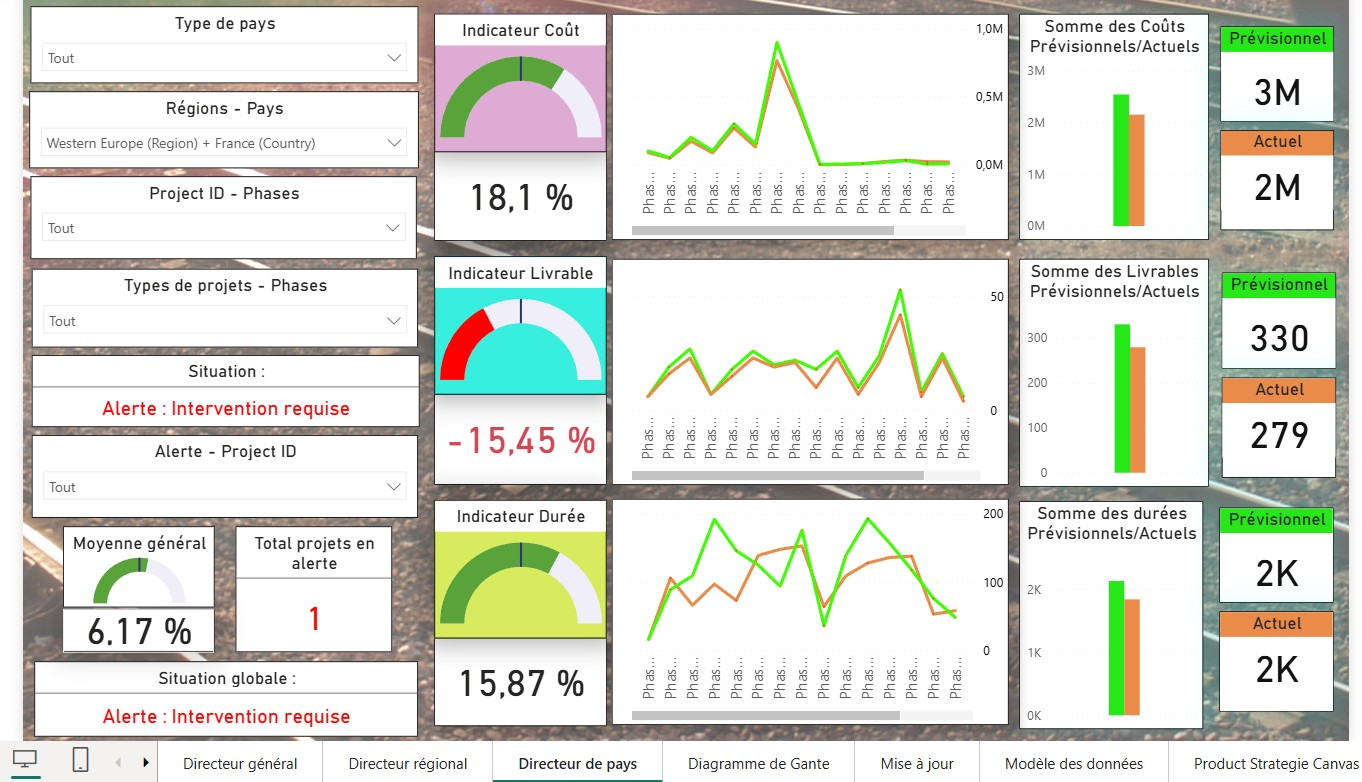

The page's visual inventory and layout, read from the dashboard file:
{"tool":"powerbi","page":{"name":"Directeur de pays","canvas":[1280,720],"ordinal":2},"visuals":[{"type":"clusteredColumnChart","title":"Somme des Coûts Prévisionnels/Actuels","fields":{"Y":["Sum(Data Par Projet.Planned Cost Par Projet)","Sum(Data Par Projet.Actual Cost Par Projet)"]},"box":[961,18.6,183.1,218.6],"z":0},{"type":"card","title":"Indicateur Livrable","fields":{"Values":["Projects_plans.Indicateur Livrable"]},"box":[396.6,384.7,166.1,88.1],"z":1000},{"type":"clusteredColumnChart","title":"Somme des durées Prévisionnels/Actuels","fields":{"Y":["Projects_plans.SommeDuréePrévisionnels","Actual Duration.SommeDuréeActuel"]},"box":[961,488.1,178,220.3],"z":2000},{"type":"clusteredColumnChart","title":"Somme des Livrables Prévisionnels/Actuels","fields":{"Y":["Projects_plans.SommeLivrablesPrévisionnels","Actual Delivrables.SommeLivrablesActuels"]},"box":[961,254.2,183.1,220.3],"z":3000},{"type":"gauge","title":"Indicateur Livrable","fields":{"Y":["Projects_plans.Indicateur Livrable Valeur"]},"box":[396.6,252.5,166.1,133.9],"z":4000},{"type":"card","title":"Indicateur Livrable","fields":{"Values":["Projects_plans.Indicateur Coûts"]},"box":[396.6,150.8,166.1,86.4],"z":5000},{"type":"gauge","title":"Indicateur Coût","fields":{"Y":["Projects_plans.Indicateur Coûts Valeur"]},"box":[396.6,18.6,166.1,133.9],"z":6000},{"type":"card","title":"Indicateur Livrable","fields":{"Values":["Projects_plans.Indicateur Durée"]},"box":[397.3,620.5,166.2,85.5],"z":7000},{"type":"gauge","title":"Indicateur Durée","fields":{"Y":["Projects_plans.Indicateur Durée Valeur"]},"box":[396.5,487.2,166.3,133.7],"z":8000},{"type":"cardVisual","title":"Prévisionnel","fields":{"Data":["Projects_plans.SommeCoûtsPrévisionnels"]},"box":[1155.8,30.3,109.2,91.8],"z":9000},{"type":"cardVisual","title":"Actuel","fields":{"Data":["Actual_Costs.SommeCoûtsActuels"]},"box":[1155.8,130,109.2,96.6],"z":10000},{"type":"cardVisual","title":"Prévisionnel","fields":{"Data":["Projects_plans.SommeLivrablesPrévisionnels"]},"box":[1157.4,268,110,92.5],"z":11000},{"type":"cardVisual","title":"Actuel","fields":{"Data":["Actual Delivrables.SommeLivrablesActuels"]},"box":[1157.5,368.8,110.4,96.6],"z":12000},{"type":"cardVisual","title":"Prévisionnel","fields":{"Data":["Projects_plans.SommeDuréePrévisionnels"]},"box":[1154.6,494.9,110.4,92],"z":13000},{"type":"cardVisual","title":"Actuel","fields":{"Data":["Actual Duration.SommeDuréeActuel"]},"box":[1154.6,594.6,110.4,96.6],"z":14000},{"type":"slicer","title":"Régions - Pays","fields":{"Values":["Country_Location.Region","Country_Location.Country"]},"box":[6.1,92.4,375.8,74.2],"z":15000},{"type":"card","title":"Situation globale :","fields":{"Values":["Data Par Projet.IndicateurAlerteStatique"]},"box":[11.3,642.9,370.2,72.5],"z":16000},{"type":"slicer","title":"Types de projets - Phases","fields":{"Values":["Project type.Project Type","Projects_plans.Phase"]},"box":[8.9,263.8,372.9,76.1],"z":17000},{"type":"lineChart","fields":{"Y":["Projects_plans.SommeLivrablesPrévisionnels","Actual Delivrables.SommeLivrablesActuels"],"Category":["Projects_plans.Phase","Projects_plans.Start Date.Variation.Hiérarchie de dates.Année","Projects_plans.Start Date.Variation.Hiérarchie de dates.Trimestre","Projects_plans.Start Date.Variation.Hiérarchie de dates.Mois","Projects_plans.Start Date.Variation.Hiérarchie de dates.Jour"]},"box":[567.8,254.2,383.1,218.6],"z":18000},{"type":"slicer","title":"Alerte - Project ID","fields":{"Values":["Data Par Projet.AlerteParProjet","Data Par Projet.ID"]},"box":[8.8,425.3,372.7,80],"z":19000},{"type":"slicer","title":"Type de pays","fields":{"Values":["Country_Location.Type"]},"box":[7.6,10.6,374.2,74.2],"z":20000},{"type":"card","title":"Total projets en alerte","fields":{"Values":["Data Par Projet.NombreProjetsAlerteSansFiltre"]},"box":[205.4,512.8,151.3,121.3],"z":21000},{"type":"card","title":"Situation :","fields":{"Values":["Projects_plans.IndicateurAlerteParPhases"]},"box":[8.9,347.5,374.2,69.8],"z":22000},{"type":"lineChart","fields":{"Category":["Projects_plans.Phase","Projects_plans.Start Date.Variation.Hiérarchie de dates.Année","Projects_plans.Start Date.Variation.Hiérarchie de dates.Trimestre","Projects_plans.Start Date.Variation.Hiérarchie de dates.Mois","Projects_plans.Start Date.Variation.Hiérarchie de dates.Jour"],"Y":["Actual Duration.SommeDuréeActuel","Projects_plans.SommeDuréePrévisionnels"]},"box":[567.8,486.4,383.1,218.6],"z":23000},{"type":"lineChart","fields":{"Category":["Projects_plans.Phase","Projects_plans.Start Date.Variation.Hiérarchie de dates.Année","Projects_plans.Start Date.Variation.Hiérarchie de dates.Trimestre","Projects_plans.Start Date.Variation.Hiérarchie de dates.Mois","Projects_plans.Start Date.Variation.Hiérarchie de dates.Jour"],"Y":["Actual_Costs.SommeCoûtsActuels","Projects_plans.SommeCoûtsPrévisionnels"]},"box":[567.8,18.6,383.1,218.6],"z":24000},{"type":"slicer","title":"Project ID - Phases","fields":{"Values":["Projects_plans.Project ID","Projects_plans.Phase"]},"box":[7.6,175,372.9,79.9],"z":25000},{"type":"card","title":"Indicateur Livrable","fields":{"Values":["Projects_plans.Indicateur Moyenne"]},"box":[38.2,592.9,146.3,41.3],"z":26000},{"type":"gauge","title":"Moyenne général","fields":{"Y":["Projects_plans.Indicateur Moyenne Valeur"]},"box":[38.2,512.9,146.3,78.8],"z":27000}]}

Visuals, with their boxes on the page's 1280x720 design canvas (x1, y1, x2, y2). These are canvas units, not pixel positions in the 1362x782 screenshot, which may show the page scaled, cropped or inside an application window:
"Somme des Coûts Prévisionnels/Actuels" clusteredColumnChart: (961,19,1144,237)
"Indicateur Livrable" card: (397,385,563,473)
"Somme des durées Prévisionnels/Actuels" clusteredColumnChart: (961,488,1139,708)
"Somme des Livrables Prévisionnels/Actuels" clusteredColumnChart: (961,254,1144,474)
"Indicateur Livrable" gauge: (397,252,563,386)
"Indicateur Livrable" card: (397,151,563,237)
"Indicateur Coût" gauge: (397,19,563,152)
"Indicateur Livrable" card: (397,620,564,706)
"Indicateur Durée" gauge: (396,487,563,621)
"Prévisionnel" cardVisual: (1156,30,1265,122)
"Actuel" cardVisual: (1156,130,1265,227)
"Prévisionnel" cardVisual: (1157,268,1267,360)
"Actuel" cardVisual: (1158,369,1268,465)
"Prévisionnel" cardVisual: (1155,495,1265,587)
"Actuel" cardVisual: (1155,595,1265,691)
"Régions - Pays" slicer: (6,92,382,167)
"Situation globale :" card: (11,643,382,715)
"Types de projets - Phases" slicer: (9,264,382,340)
lineChart - Projects_plans.SommeLivrablesPrévisionnels x Actual Delivrables.SommeLivrablesActuels: (568,254,951,473)
"Alerte - Project ID" slicer: (9,425,382,505)
"Type de pays" slicer: (8,11,382,85)
"Total projets en alerte" card: (205,513,357,634)
"Situation :" card: (9,348,383,417)
lineChart - Projects_plans.Phase x Projects_plans.Start Date.Variation.Hiérarchie de dates.Année: (568,486,951,705)
lineChart - Projects_plans.Phase x Projects_plans.Start Date.Variation.Hiérarchie de dates.Année: (568,19,951,237)
"Project ID - Phases" slicer: (8,175,380,255)
"Indicateur Livrable" card: (38,593,184,634)
"Moyenne général" gauge: (38,513,184,592)
